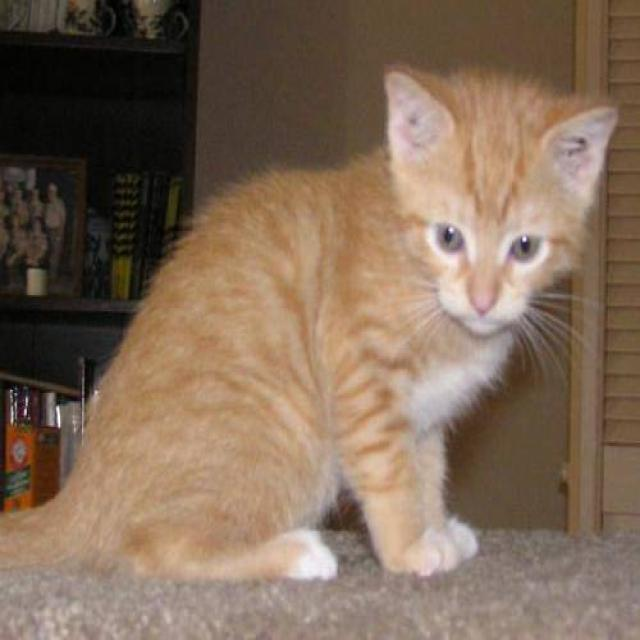cat: (0, 61, 618, 585)
